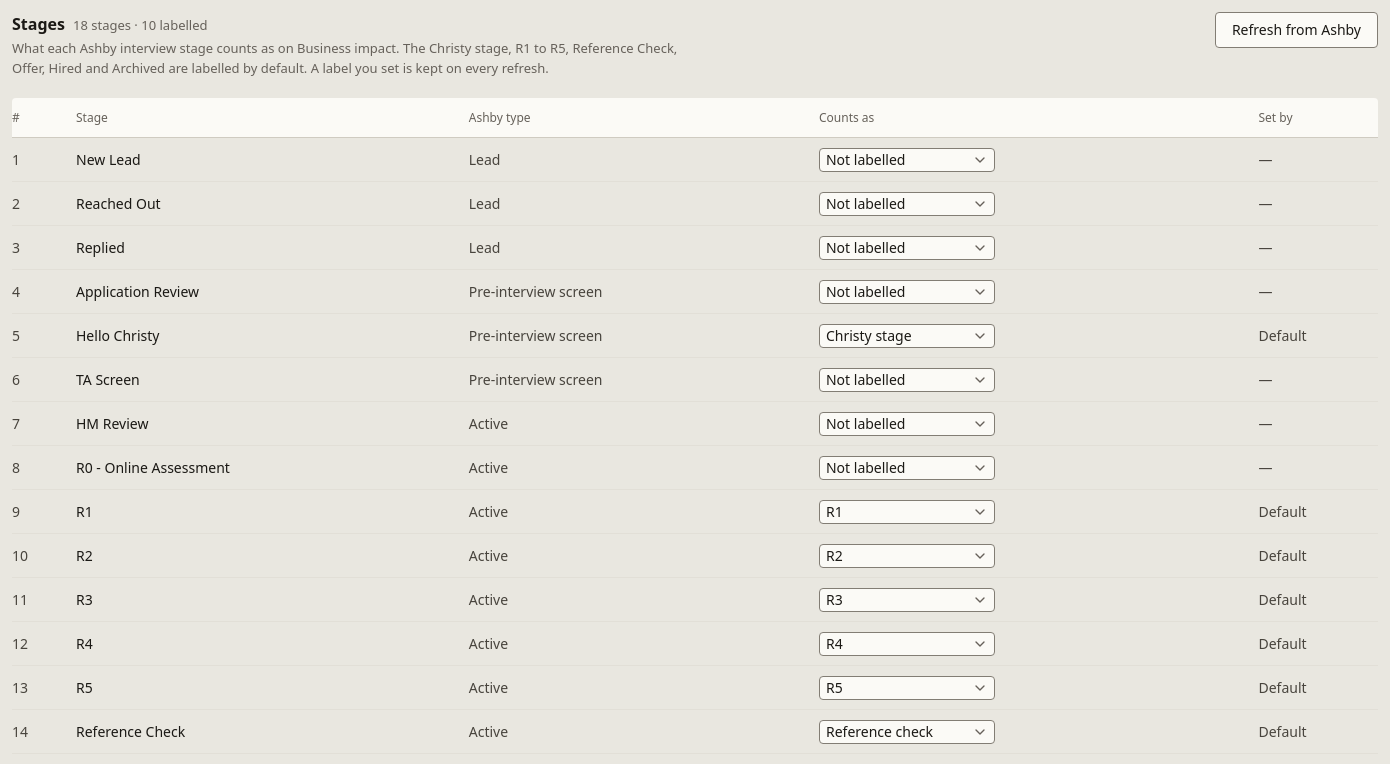
Test: StagesSection › a refresh that Ashby partly refused says which jobs and why, in words
Click the button "Refresh from Ashby" at (1296, 30), box x1=1215 y1=12 x2=1378 y2=48
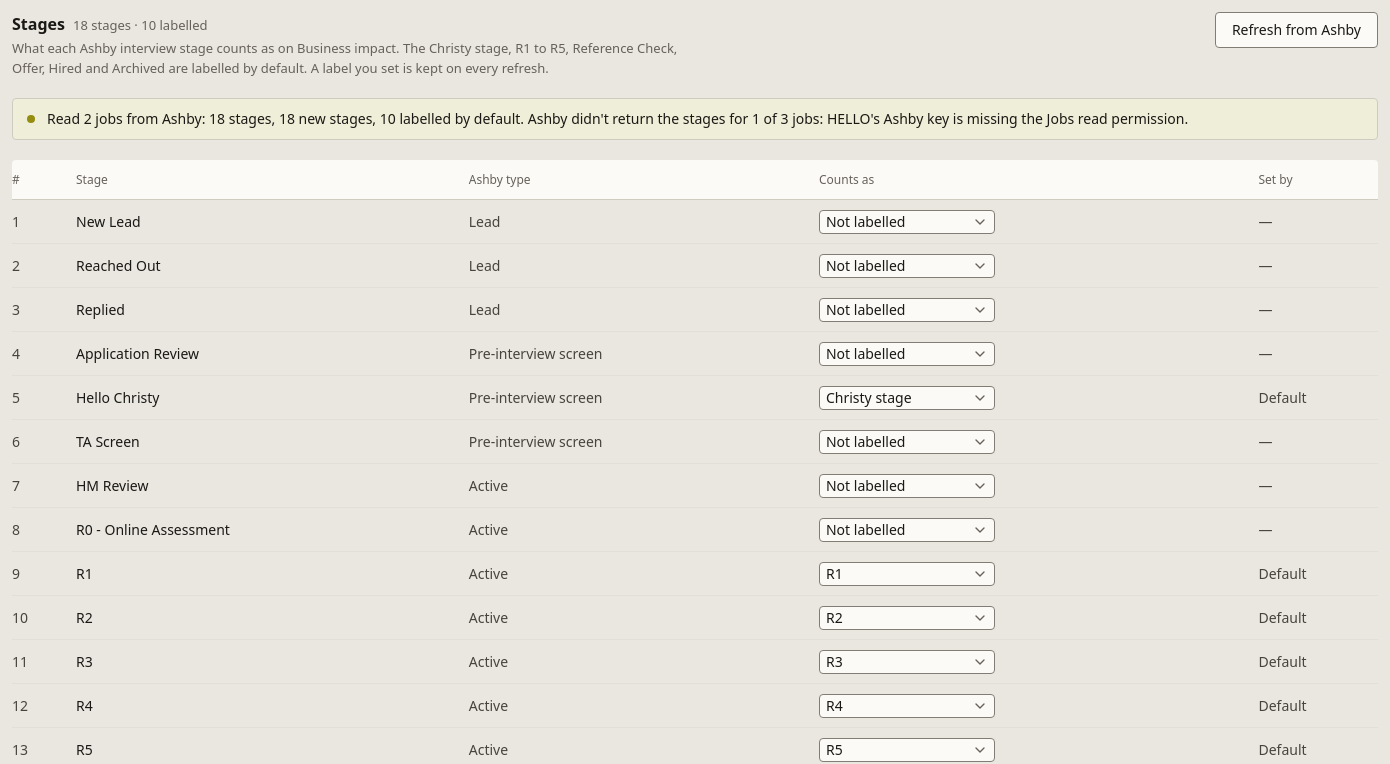
Now the text "Ashby didn't return the stages for 1 of 3 jobs: HELLO's Ashby key is missing the Jobs read permission." is shown, box x1=47 y1=109 x2=1188 y2=128
